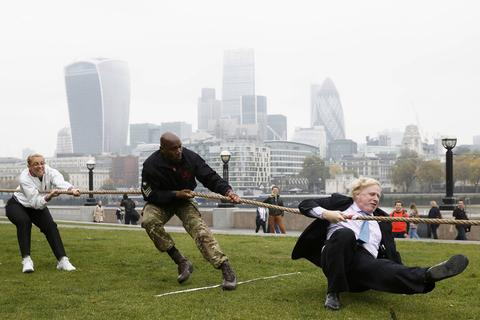bending: (136, 130, 253, 293), (1, 142, 91, 277)
down: (290, 160, 472, 310)
up: (258, 182, 289, 238)
